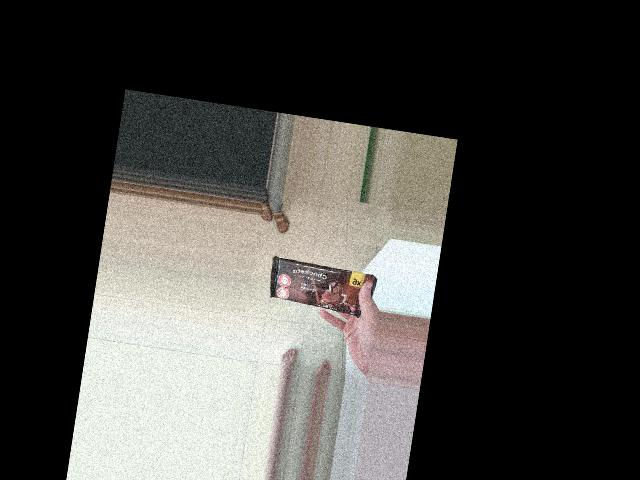chocolate: (255, 207, 331, 323)
